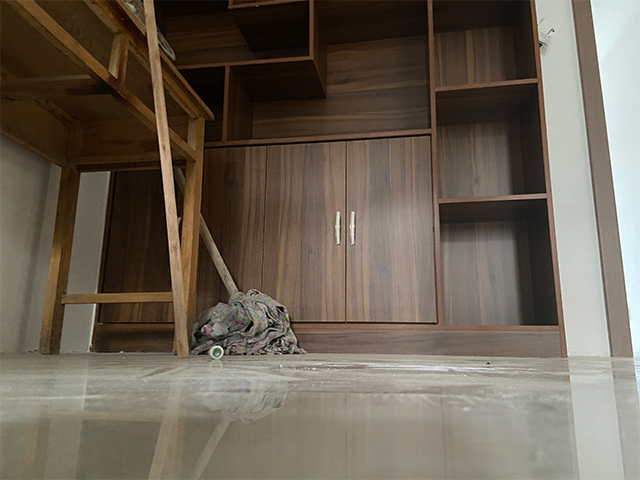cabinet: (105, 123, 568, 358)
table: (1, 1, 214, 356)
